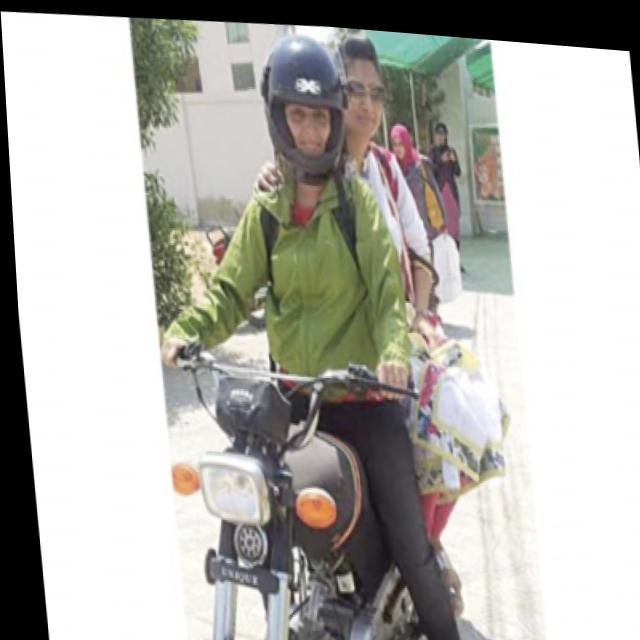Helmet: (246, 30, 350, 184)
Nonhelmet: (321, 23, 393, 154)
